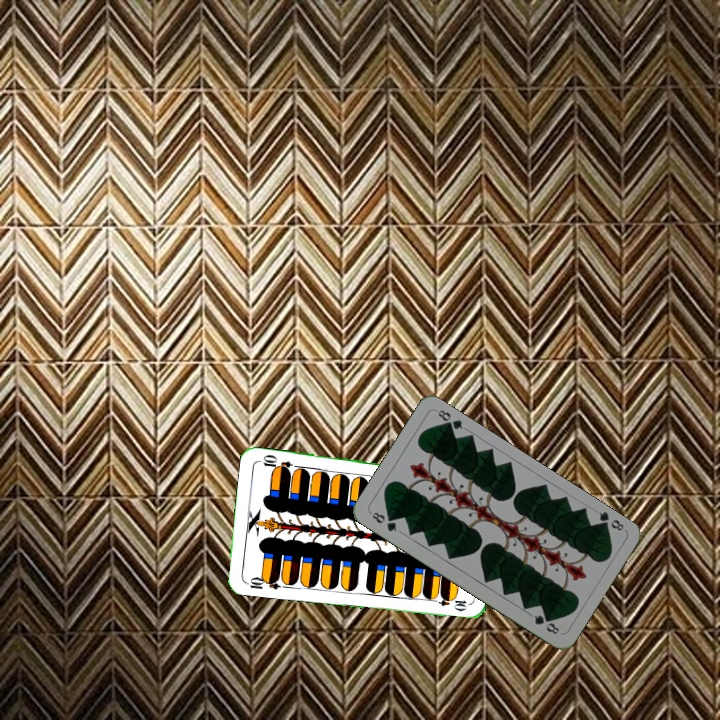E10: (241, 572, 282, 592)
G8: (594, 507, 626, 533), (368, 508, 399, 534)
